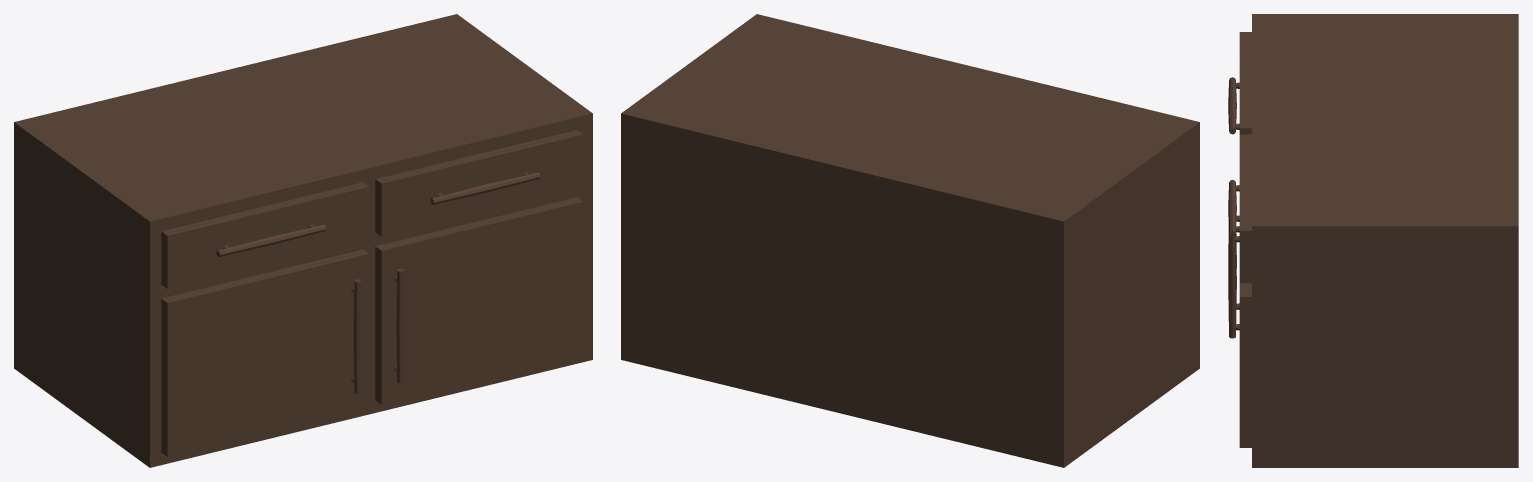
Rendered from bancada.fbx.
The picture shows the model from 3 angles, left to right: view 1: azimuth 30°, elevation 25°; view 2: azimuth 150°, elevation 25°; view 3: azimuth 270°, elevation 25°; orthographic projection.
Visible parts, largest first — view 1: Bancadas; view 2: Bancadas; view 3: Bancadas.
Boxes of the visible parts, box(x1,y1,x2,y2) form: Bancadas: box(14, 14, 592, 467); Bancadas: box(621, 14, 1199, 467); Bancadas: box(1228, 14, 1518, 467).
Bounding box in the file's own units: 414 × 220 × 240.
